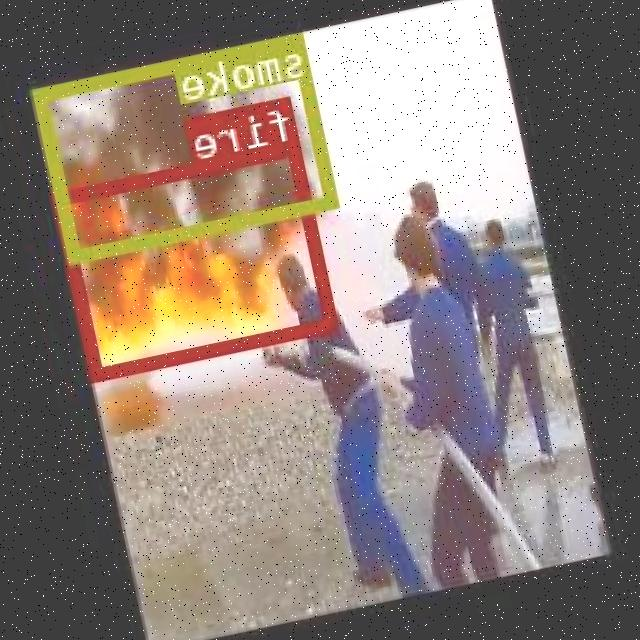fire: (54, 138, 341, 378)
smoke: (34, 31, 342, 260)
